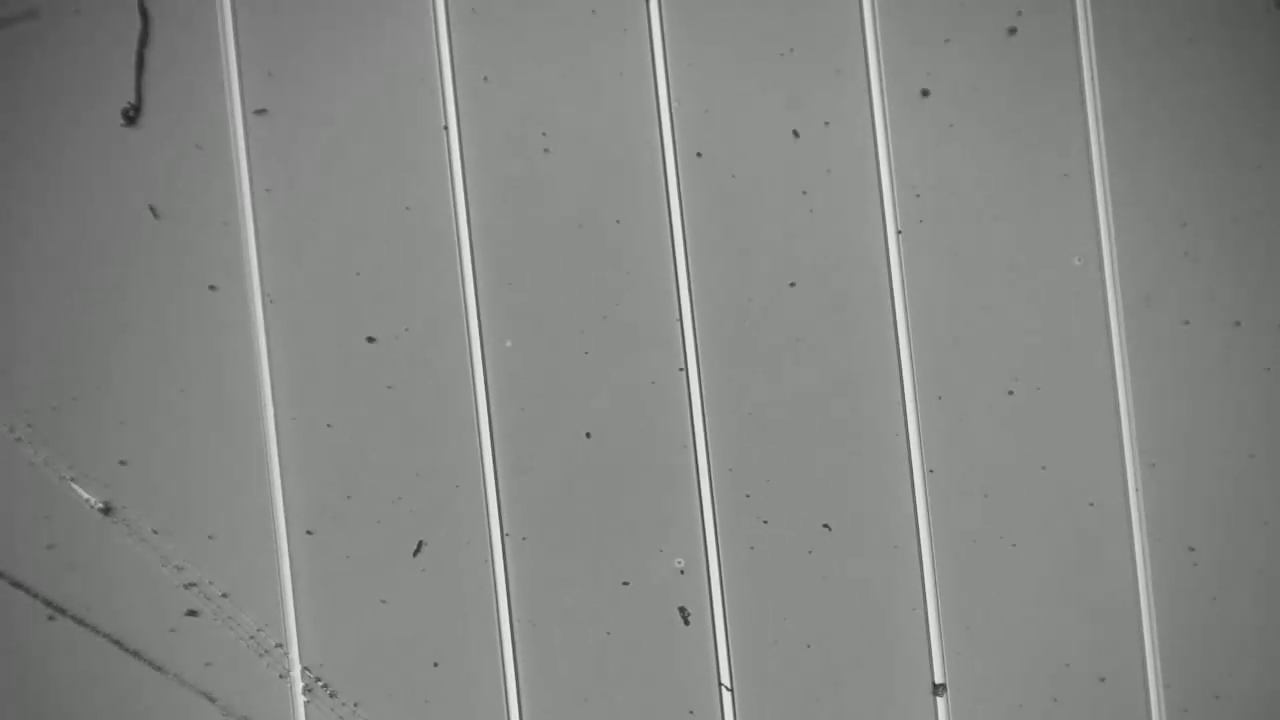scratch: (15, 418, 362, 698), (1, 580, 243, 720)
stains_enbedded: (923, 669, 958, 705)
